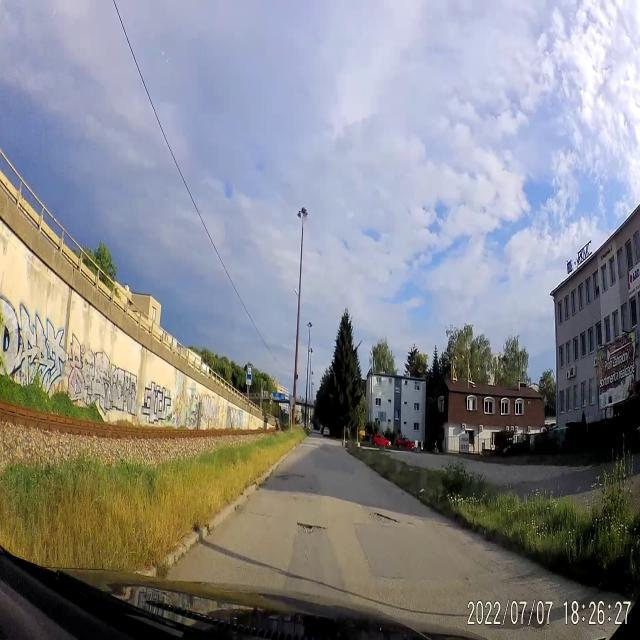Pothole: (296, 514, 326, 542), (370, 504, 398, 534), (271, 468, 306, 486)
